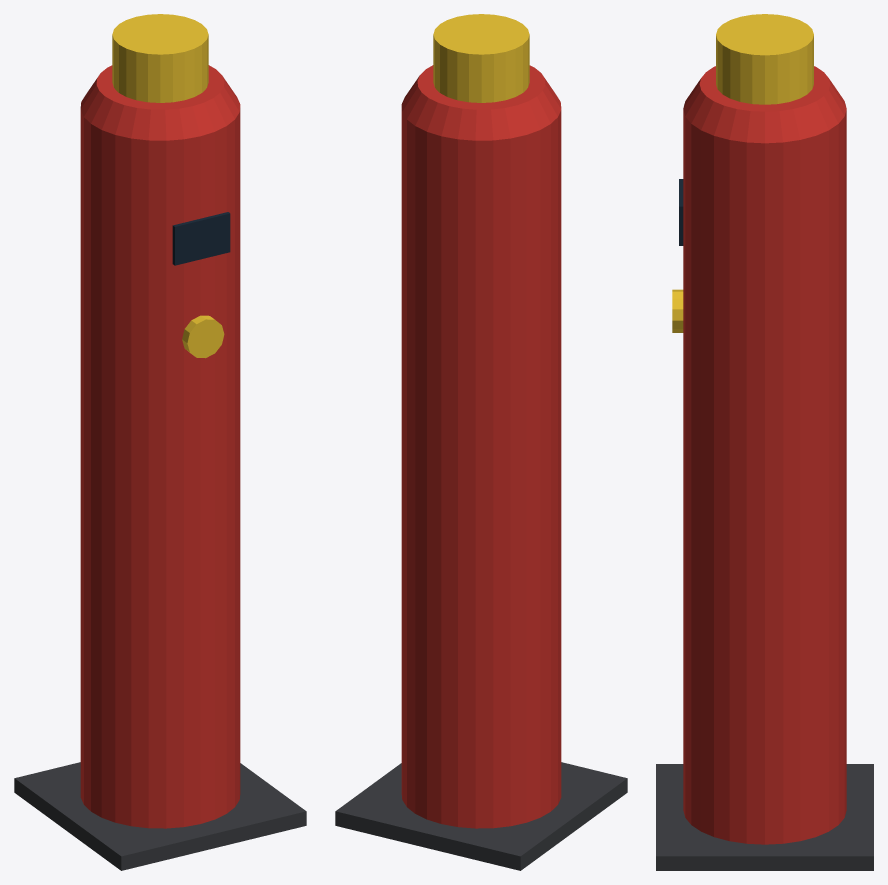
The picture shows the model from 3 angles, left to right: view 1: azimuth 30°, elevation 25°; view 2: azimuth 150°, elevation 25°; view 3: azimuth 270°, elevation 25°; orthographic projection.
Parts seen in each view (by area): view 1: baseOffset=0;depth=0.3;height=1.6;material=brick;power=;serv (×4); view 2: baseOffset=0;depth=0.3;height=1.6;material=brick;power=;serv (×3); view 3: baseOffset=0;depth=0.3;height=1.6;material=brick;power=;serv (×3).
Part boxes in pixels (box(x1,y1,x2,y2)): baseOffset=0;depth=0.3;height=1.6;material=brick;power=;serv (×4): box(14, 14, 306, 870); baseOffset=0;depth=0.3;height=1.6;material=brick;power=;serv (×3): box(335, 14, 627, 870); baseOffset=0;depth=0.3;height=1.6;material=brick;power=;serv (×3): box(656, 14, 873, 870).
Bounding box in the file's own units: 0.4 × 0.4 × 1.6.
